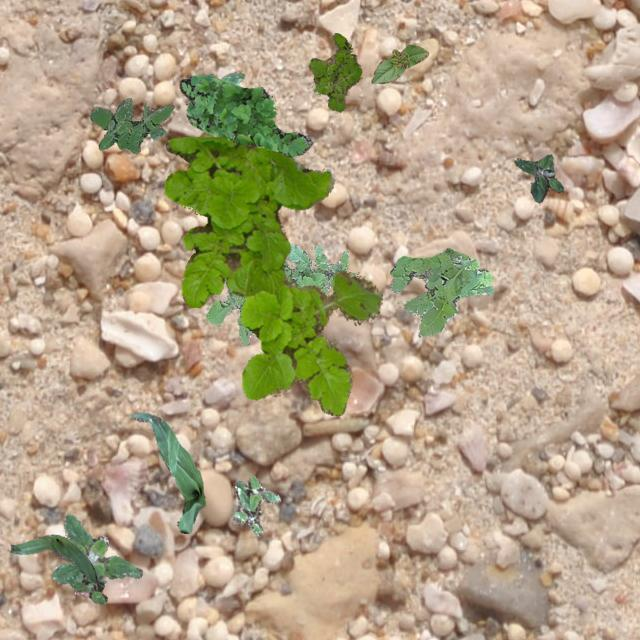crop: (128, 412, 205, 532), (8, 534, 96, 582), (370, 44, 428, 82)
weed: (164, 134, 382, 414), (205, 242, 348, 344), (178, 72, 310, 156), (388, 247, 492, 336), (50, 514, 142, 604), (88, 96, 174, 152), (308, 32, 360, 112), (232, 474, 280, 534), (512, 154, 562, 202), (220, 72, 243, 84)
